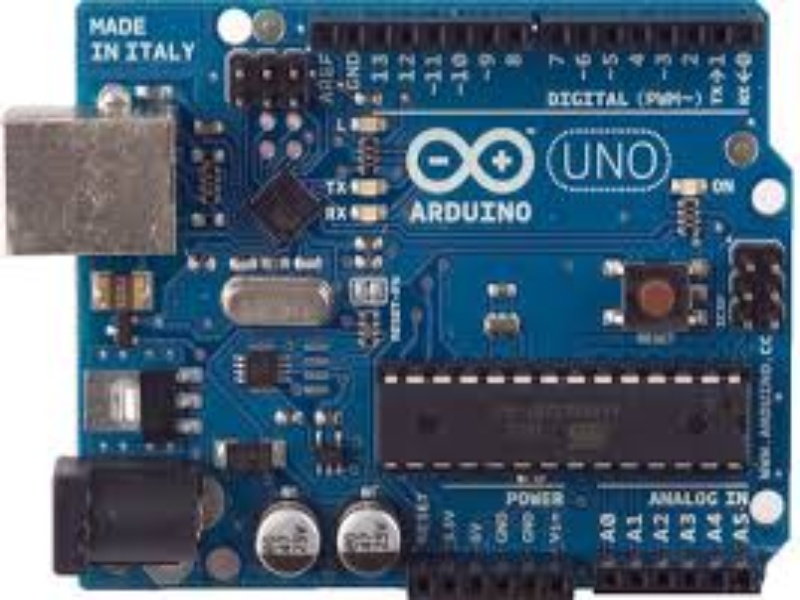uno: (36, 9, 788, 594)
